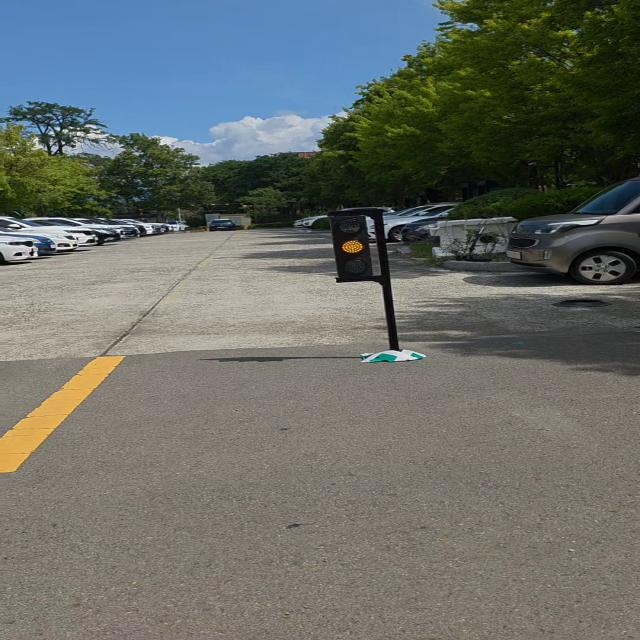yellow: (328, 211, 380, 285)
